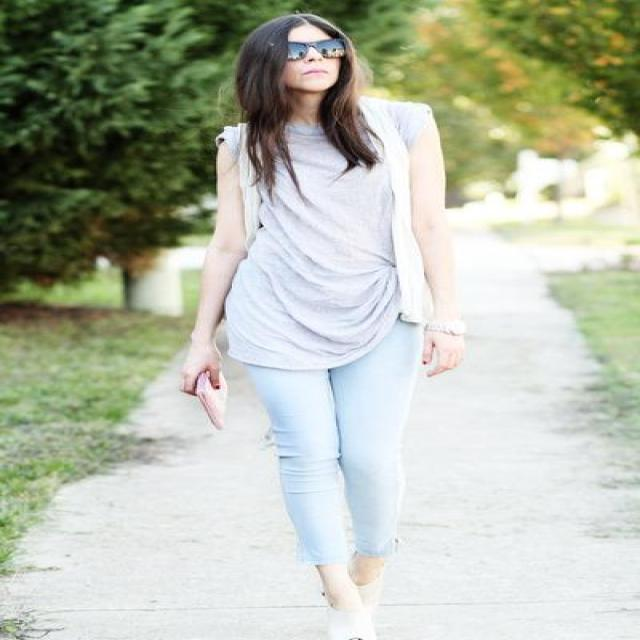jacket: (341, 149, 381, 175)
pants: (232, 354, 392, 565)
shirt: (216, 115, 434, 370)
shoe: (304, 583, 386, 639)
sunglass: (270, 20, 349, 75)
